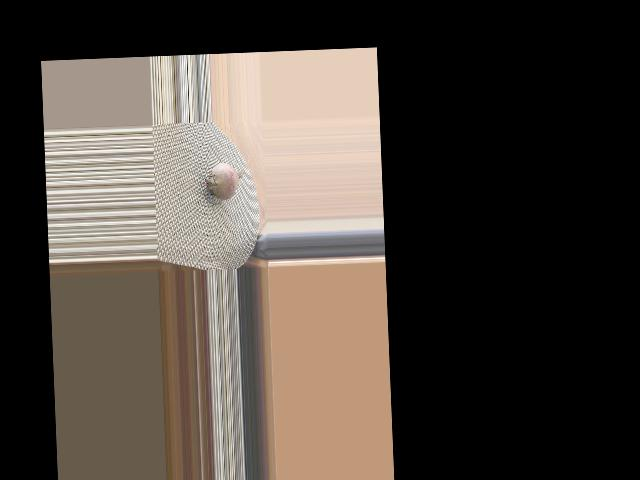beet: (202, 155, 250, 206)
